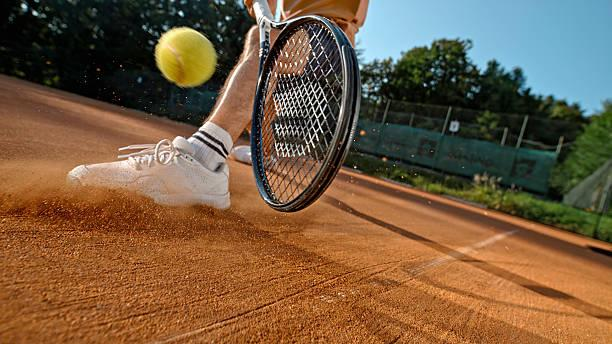ball_tennis: (155, 27, 218, 95)
